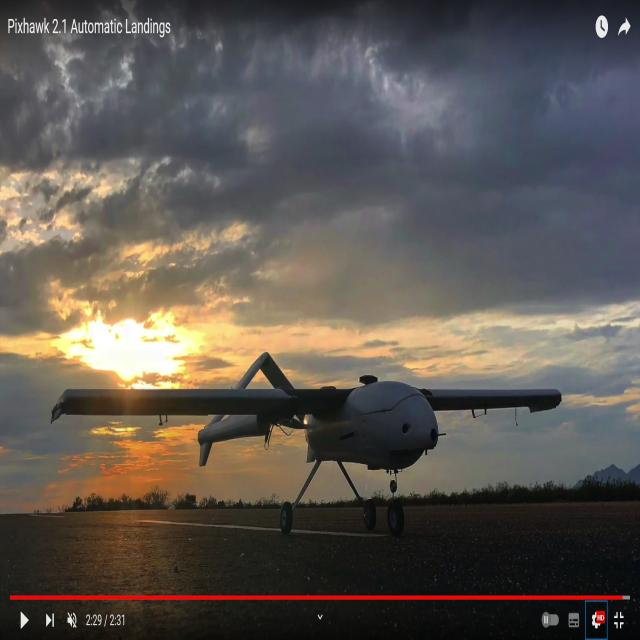iha: (51, 352, 560, 498)
